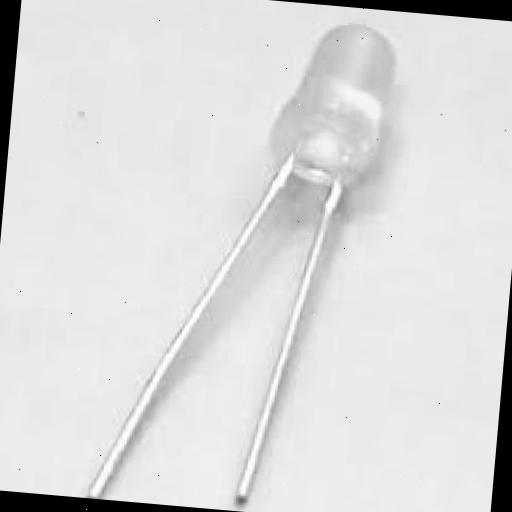LED: (141, 8, 456, 512)
